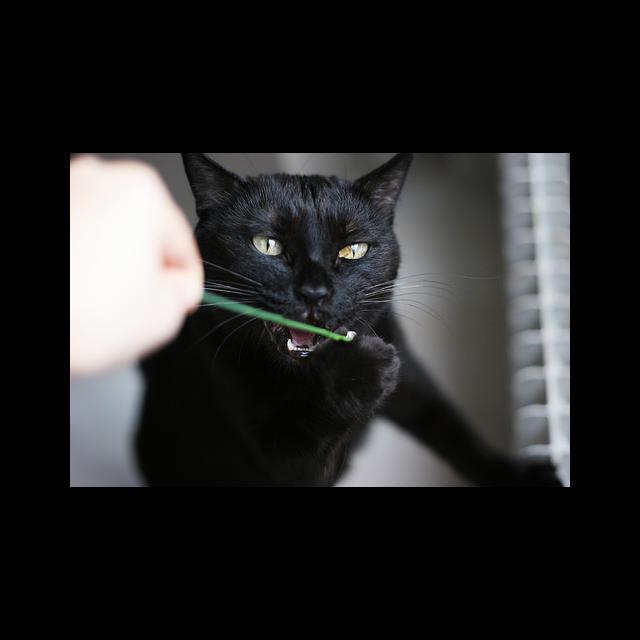animals: (184, 153, 414, 306)
